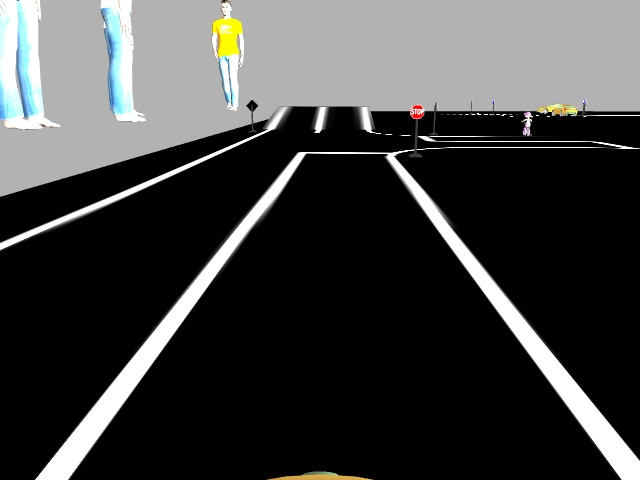Stop: (406, 103, 425, 119)
